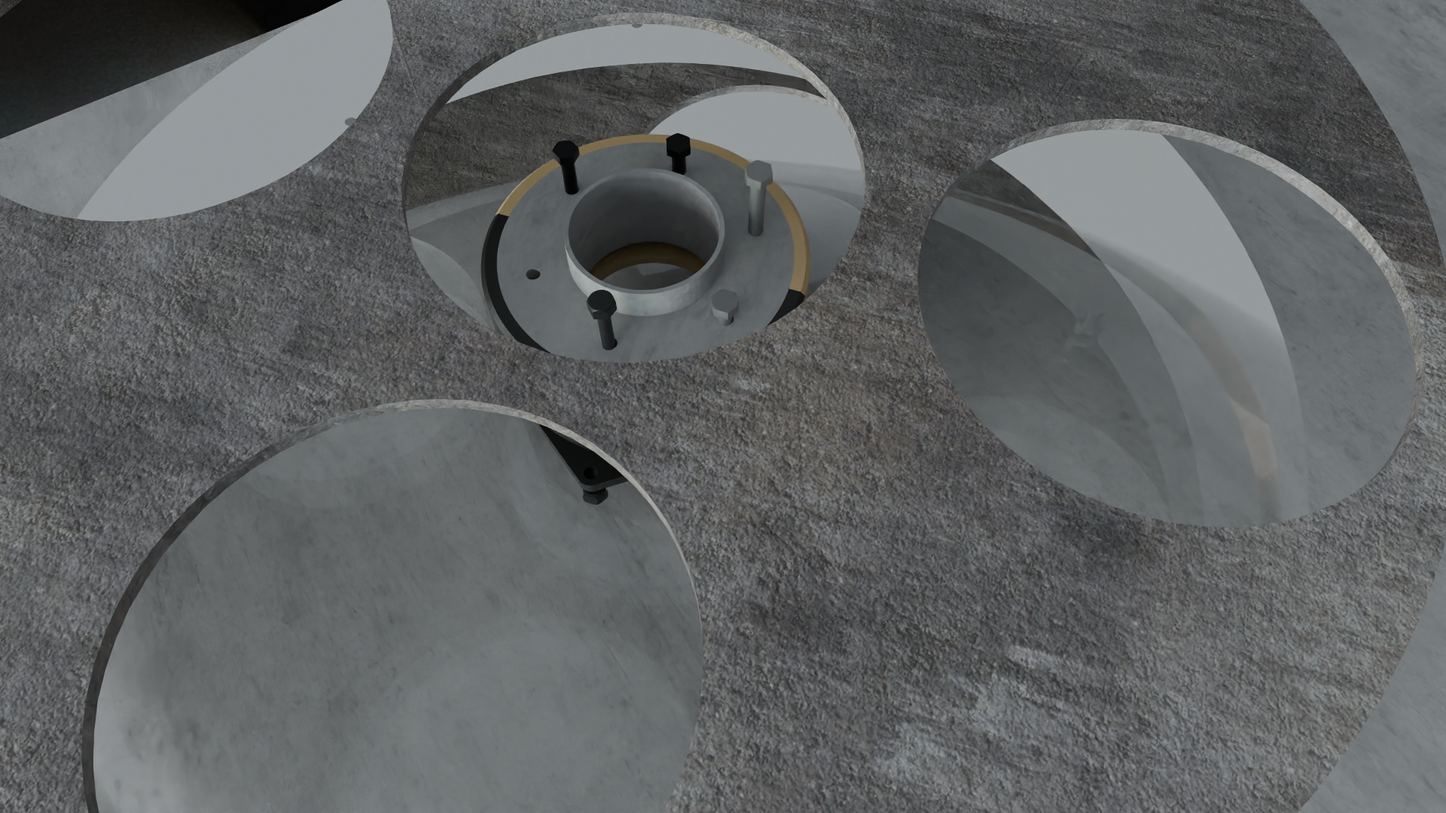bolt: (710, 289, 739, 314), (587, 290, 616, 313), (745, 160, 773, 183), (666, 133, 691, 154), (552, 141, 578, 159)
